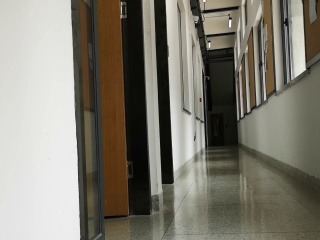room: (68, 2, 155, 227)
